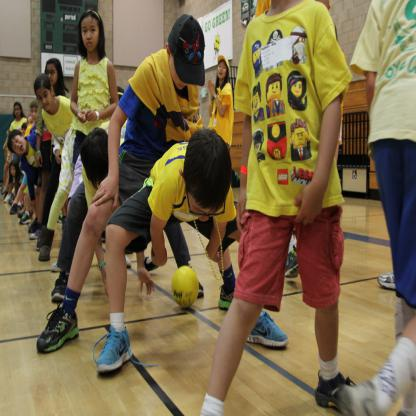Ball: (173, 266, 199, 306)
